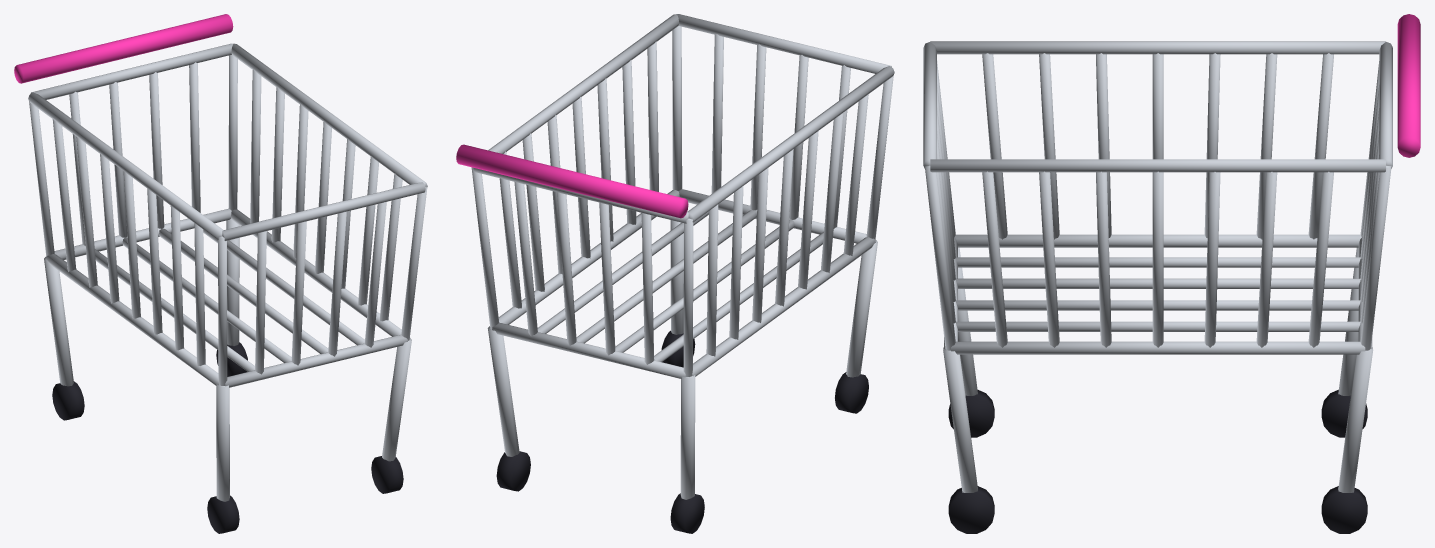
Rendered from Street_Cart.fbx.
3 views of the same model, side by side, from view 1: azimuth 30°, elevation 25°; view 2: azimuth 150°, elevation 25°; view 3: azimuth 270°, elevation 25° (orthographic). The views are drawn at different scales.
Visible parts, largest first — view 1: Street_Cart; view 2: Street_Cart; view 3: Street_Cart.
Part boxes in pixels (x1,y1,x2,y2): Street_Cart: (14, 14, 427, 533); Street_Cart: (456, 14, 894, 533); Street_Cart: (923, 14, 1420, 533).
Bounding box in the file's own units: 0.635 × 0.9737 × 1.08.
